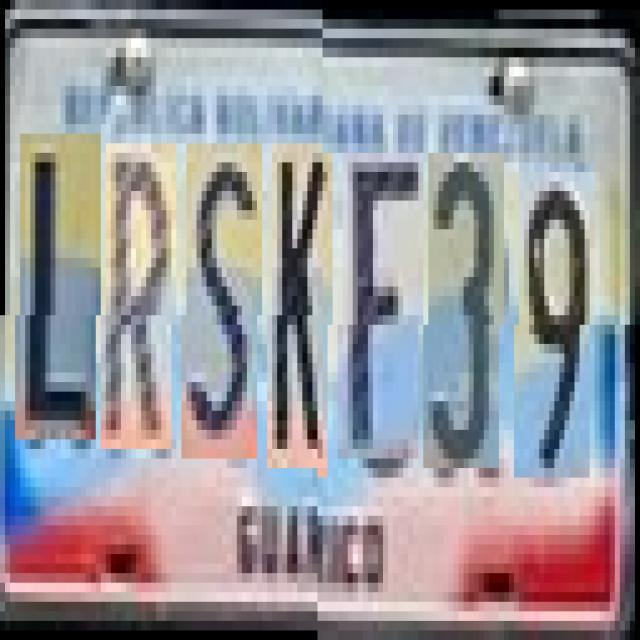3: (428, 153, 504, 468)
9: (519, 162, 595, 478)
F: (343, 152, 423, 458)
K: (272, 152, 333, 478)
L: (20, 143, 101, 449)
R: (106, 152, 176, 458)
S: (186, 153, 262, 468)
